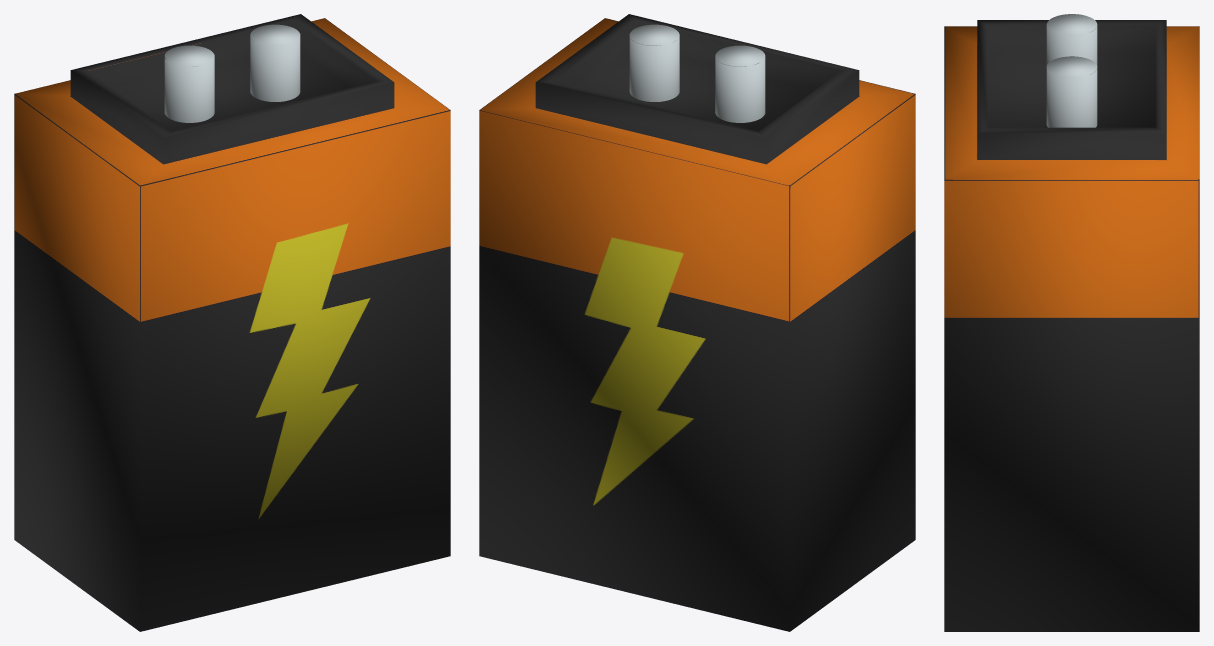
The model's file is battery.obj.
3 views of the same model, side by side, from view 1: azimuth 30°, elevation 25°; view 2: azimuth 150°, elevation 25°; view 3: azimuth 270°, elevation 25° (orthographic).
Visible parts, largest first — view 1: Cylinder.001; view 2: Cylinder.001; view 3: Cylinder.001.
Part boxes in pixels (x1=…): Cylinder.001: x1=14, y1=14, x2=450, y2=631; Cylinder.001: x1=479, y1=14, x2=915, y2=631; Cylinder.001: x1=944, y1=14, x2=1199, y2=631.
Bounding box in the file's own units: 1.54 × 2.38 × 1.08.
